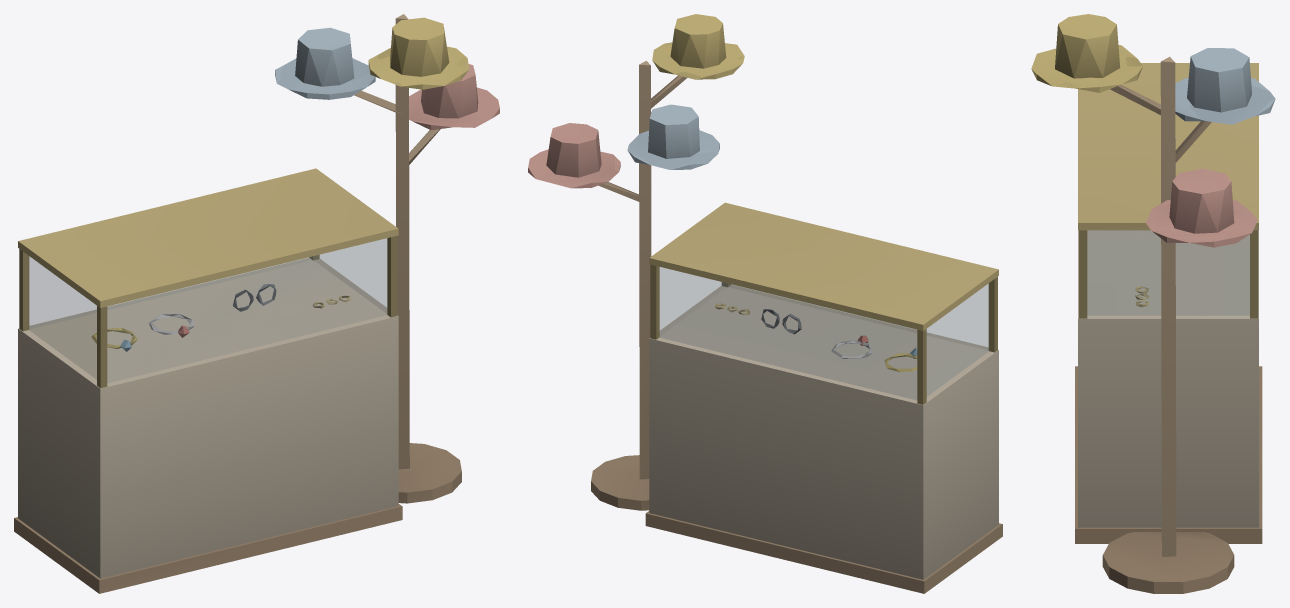
File: wear_acc_case_low.glb
3 renders of one model, left to right at view 1: azimuth 30°, elevation 25°; view 2: azimuth 150°, elevation 25°; view 3: azimuth 270°, elevation 25°, orthographic. The views are drawn at different scales.
Parts seen in each view (by area): view 1: wear.acc_case; view 2: wear.acc_case; view 3: wear.acc_case.
Boxes of the visible parts, left/top/right/bottom form: wear.acc_case: left=14, top=14, right=499, bottom=593; wear.acc_case: left=528, top=14, right=1002, bottom=593; wear.acc_case: left=1031, top=14, right=1275, bottom=593.
Bounding box in the file's own units: 1.74 × 1.78 × 0.743.
